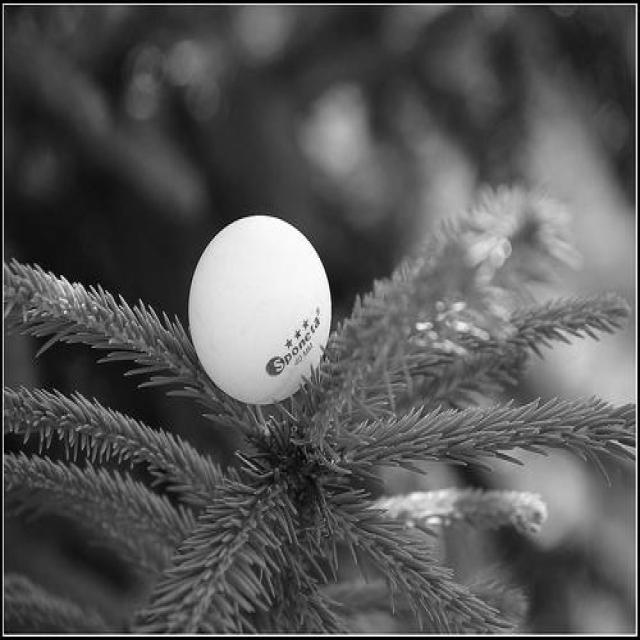ping-pong-ball: (187, 214, 337, 410)
